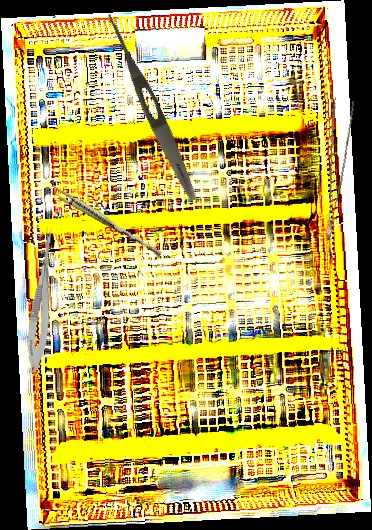Dressing Forceps: (99, 11, 203, 204)
Micro Scissor: (24, 224, 58, 375)
Tissue Forceps: (47, 183, 165, 259), (303, 96, 362, 241)
